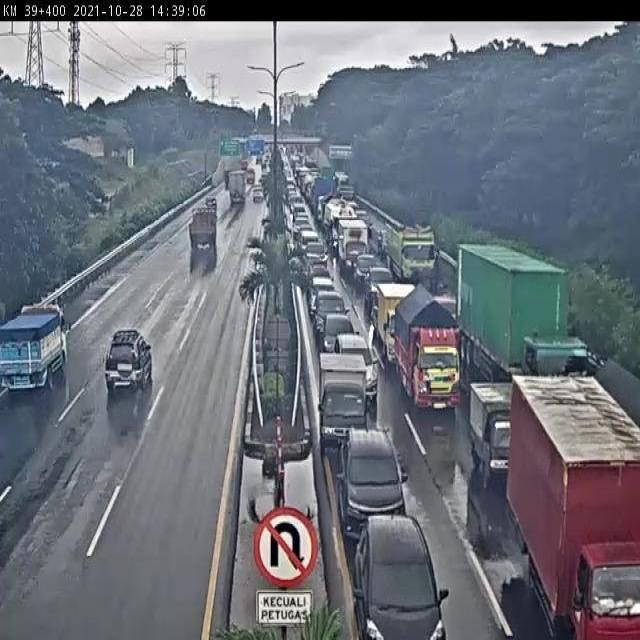car: (351, 502, 445, 640), (332, 424, 407, 537), (84, 328, 150, 401), (328, 333, 382, 407), (311, 287, 348, 340), (320, 312, 361, 352), (366, 263, 396, 312), (310, 273, 338, 308)
truck: (509, 368, 640, 613), (464, 255, 593, 373), (393, 284, 469, 412), (463, 376, 526, 481), (1, 308, 62, 409), (315, 352, 371, 453), (375, 283, 421, 364), (389, 224, 443, 285)
